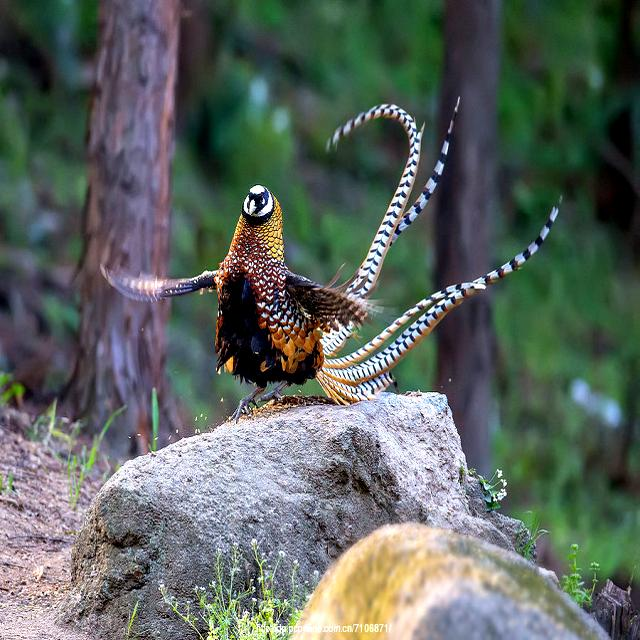Reeves-s Pheasant: (316, 97, 561, 406)
